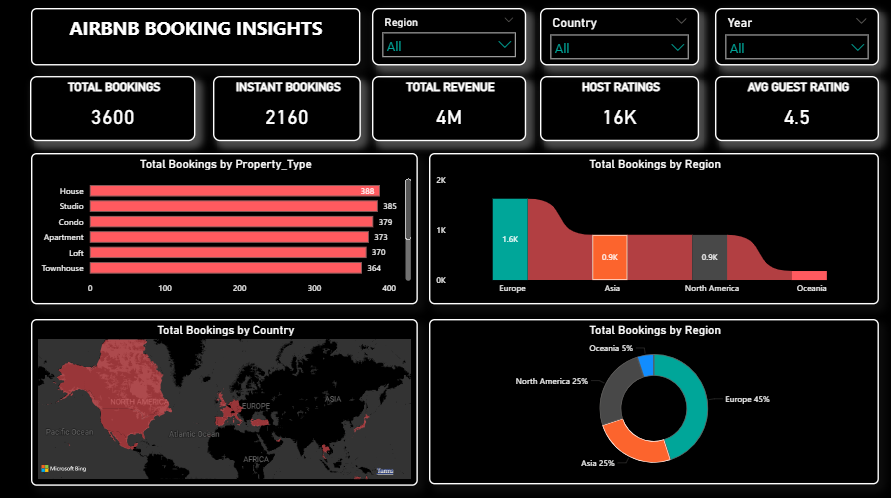

Layout of this report page (visuals, bound fields, positions):
{"tool":"powerbi","page":{"name":"AIRBNB BOOKING INSIGHTS","canvas":[1280,720],"ordinal":1},"visuals":[{"type":"card","title":"TOTAL BOOKINGS","fields":{"Values":["AIR_BNB.Total Bookings"]},"box":[48.3,116.2,236,93],"z":0},{"type":"card","title":"INSTANT BOOKINGS","fields":{"Values":["AIR_BNB.Instant Booking"]},"box":[309.3,116.2,210.9,93],"z":1000},{"type":"card","title":"TOTAL REVENUE","fields":{"Values":["AIR_BNB.Total Revenue"]},"box":[536.3,116.2,219.9,93],"z":2000},{"type":"card","title":"HOST RATINGS","fields":{"Values":["Sum(AIR_BNB.Guest_Rating)"]},"box":[775.9,116.2,227,93],"z":3000},{"type":"card","title":"AVG GUEST RATING","fields":{"Values":["AIR_BNB.Avg Guest Rating"]},"box":[1026.1,116.2,234.2,93],"z":4000},{"type":"slicer","fields":{"Values":["AIR_BNB.Region"]},"box":[536.3,17.9,219.9,82.2],"z":5000},{"type":"slicer","fields":{"Values":["AIR_BNB.Country"]},"box":[775.9,17.9,227,82.2],"z":6000},{"type":"slicer","fields":{"Values":["AIR_BNB.Booking_Date.Variation.Date Hierarchy.Year"]},"box":[1026.1,17.9,234.2,82.2],"z":7000},{"type":"barChart","fields":{"Category":["AIR_BNB.Property_Type"],"Y":["AIR_BNB.Total Bookings"]},"box":[50.1,225.3,552.4,216.3],"z":8000},{"type":"ribbonChart","fields":{"Category":["AIR_BNB.Region"],"Y":["AIR_BNB.Total Bookings"]},"box":[618.5,225.3,641.8,216.3],"z":9000},{"type":"filledMap","fields":{"Category":["AIR_BNB.Country"]},"box":[50.1,463,552.4,237.8],"z":10000},{"type":"textbox","box":[50.1,17.9,470.2,82.2],"z":11000},{"type":"donutChart","fields":{"Category":["AIR_BNB.Region"],"Y":["AIR_BNB.Total Bookings"]},"box":[618.5,463,641.8,236],"z":11001}]}

Visuals, with their boxes in screenshot pixels (x1, y1, x2, y2), scaled from the page's 1280x720 canvas onto the 891x498 screenshot:
"TOTAL BOOKINGS" card: l=34, t=80, r=198, b=145
"INSTANT BOOKINGS" card: l=215, t=80, r=362, b=145
"TOTAL REVENUE" card: l=373, t=80, r=526, b=145
"HOST RATINGS" card: l=540, t=80, r=698, b=145
"AVG GUEST RATING" card: l=714, t=80, r=877, b=145
slicer - AIR_BNB.Region: l=373, t=12, r=526, b=69
slicer - AIR_BNB.Country: l=540, t=12, r=698, b=69
slicer - AIR_BNB.Booking_Date.Variation.Date Hierarchy.Year: l=714, t=12, r=877, b=69
barChart - AIR_BNB.Property_Type x AIR_BNB.Total Bookings: l=35, t=156, r=419, b=305
ribbonChart - AIR_BNB.Region x AIR_BNB.Total Bookings: l=431, t=156, r=877, b=305
filledMap - AIR_BNB.Country: l=35, t=320, r=419, b=485
textbox: l=35, t=12, r=362, b=69
donutChart - AIR_BNB.Region x AIR_BNB.Total Bookings: l=431, t=320, r=877, b=483
